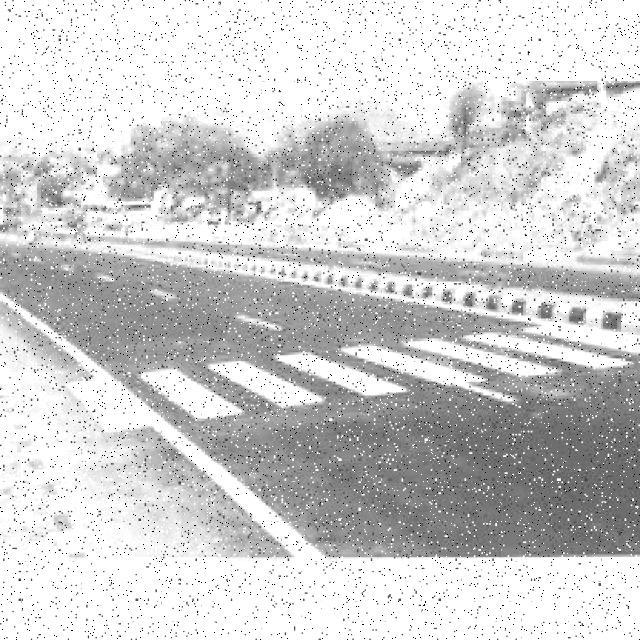crosswalk: (57, 328, 637, 432)
